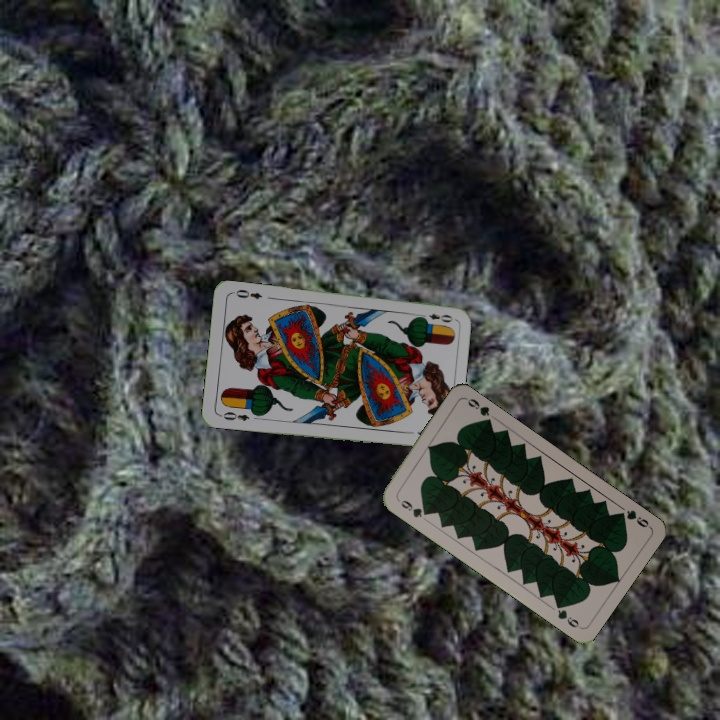EO: (415, 309, 455, 325), (216, 408, 252, 424)
G9: (393, 494, 431, 520), (613, 506, 653, 530)
